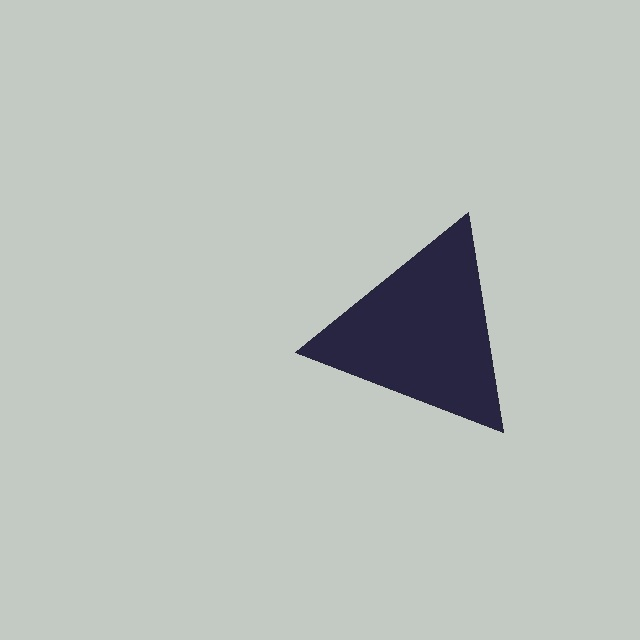triangle: (294, 211, 503, 433)
